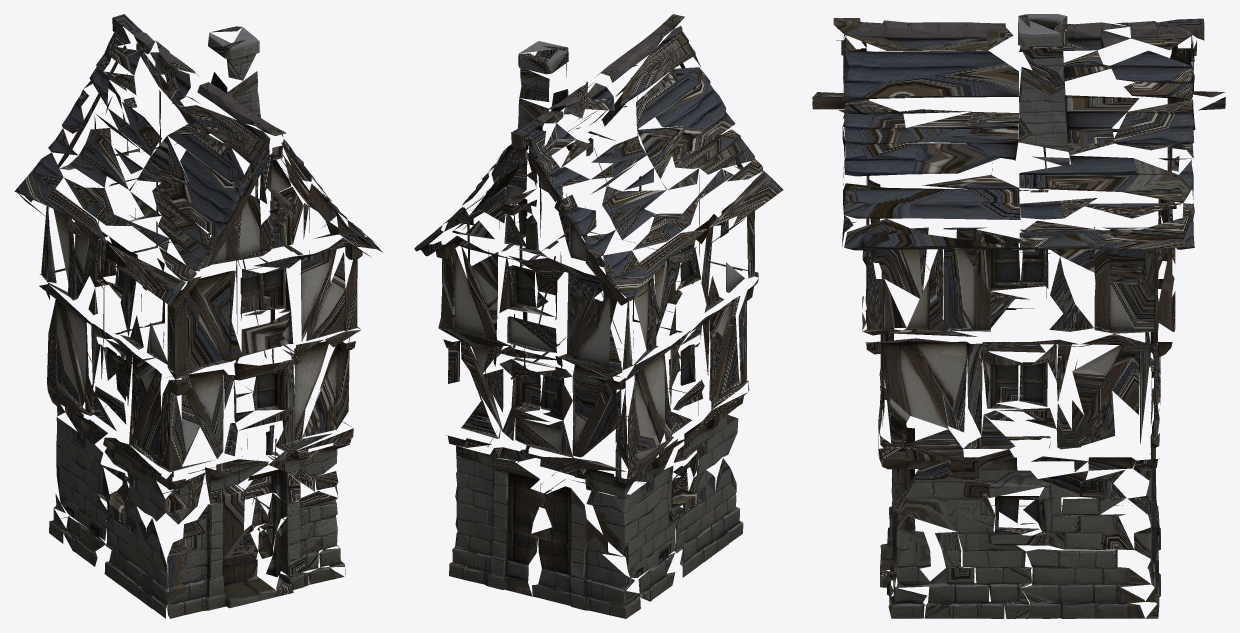
File: bld_house_npc_h_a_LOD1.glb
The picture shows the model from 3 angles, left to right: view 1: azimuth 30°, elevation 25°; view 2: azimuth 150°, elevation 25°; view 3: azimuth 270°, elevation 25°; orthographic projection. The views are drawn at different scales.
Visible parts, largest first — view 1: geometry_0; view 2: geometry_0; view 3: geometry_0.
Boxes of the visible parts, box(x1,y1,x2,y2) form: geometry_0: box(14, 14, 383, 618); geometry_0: box(414, 14, 783, 618); geometry_0: box(812, 14, 1225, 618).
Bounding box in the file's own units: 2.74 × 6 × 3.94.
Materials: 1 (1 with a texture image).
